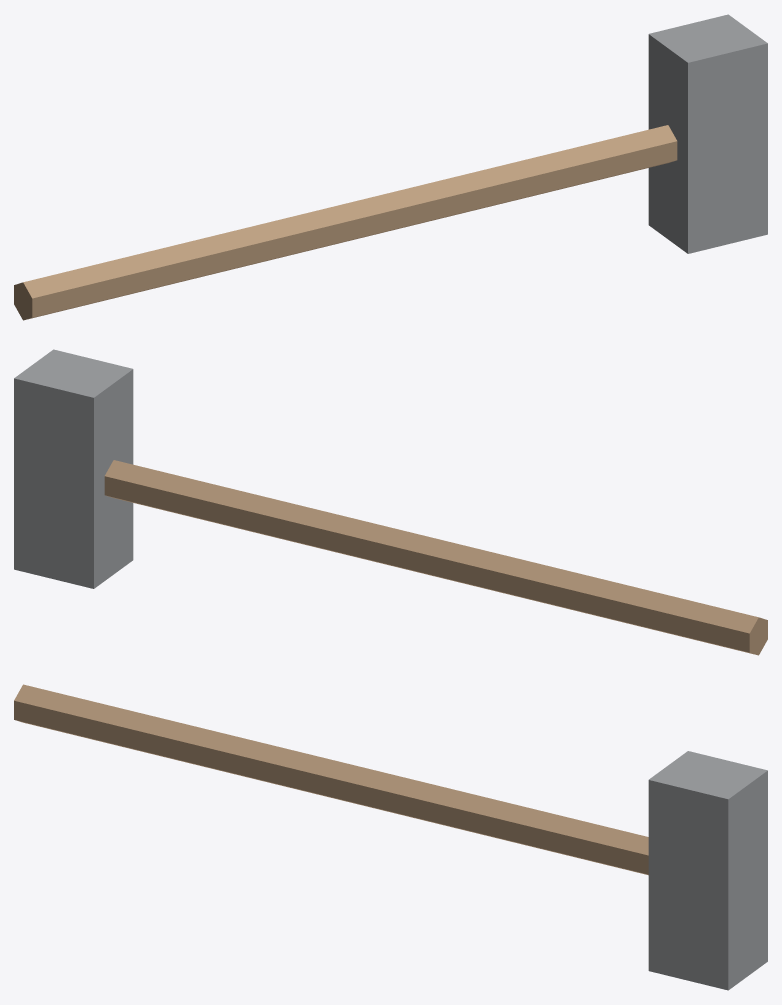
The model's file is held_tool_hammer.glb.
3 renders of one model, top to bottom at view 1: azimuth 30°, elevation 25°; view 2: azimuth 150°, elevation 25°; view 3: azimuth 330°, elevation 25°, orthographic.
Visible parts, largest first — view 1: held_tool_hammer; view 2: held_tool_hammer; view 3: held_tool_hammer.
Boxes of the visible parts, x1=… form: held_tool_hammer: x1=14, y1=14, x2=767, y2=320; held_tool_hammer: x1=14, y1=349, x2=767, y2=655; held_tool_hammer: x1=14, y1=684, x2=767, y2=990.
Bounding box in the file's own units: 0.635 × 0.16 × 0.06.
